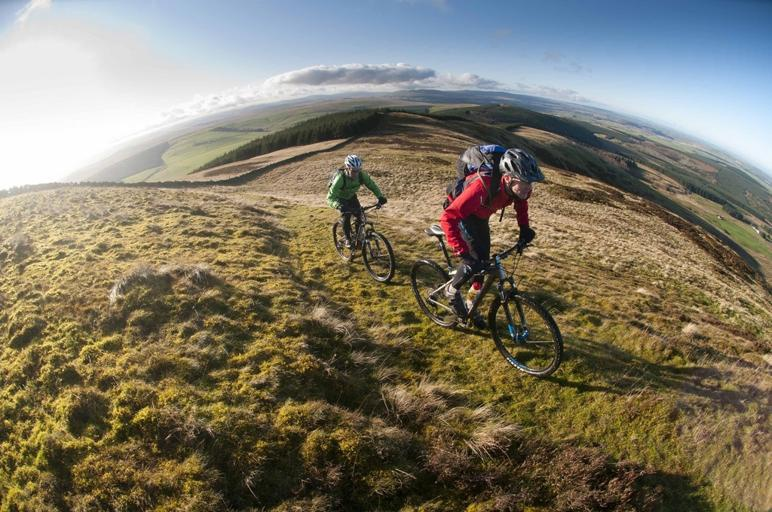non-vehicle: (410, 223, 563, 377), (332, 201, 395, 282)
